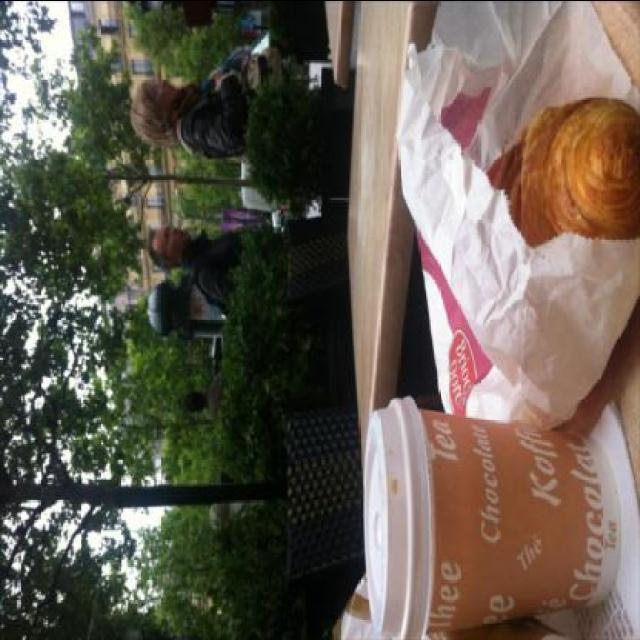Croissant: (509, 86, 637, 250)
